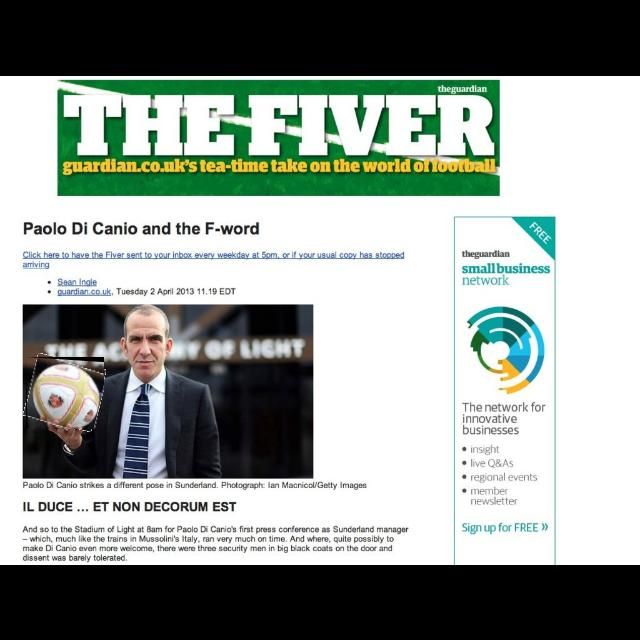Football: (26, 357, 104, 429)
